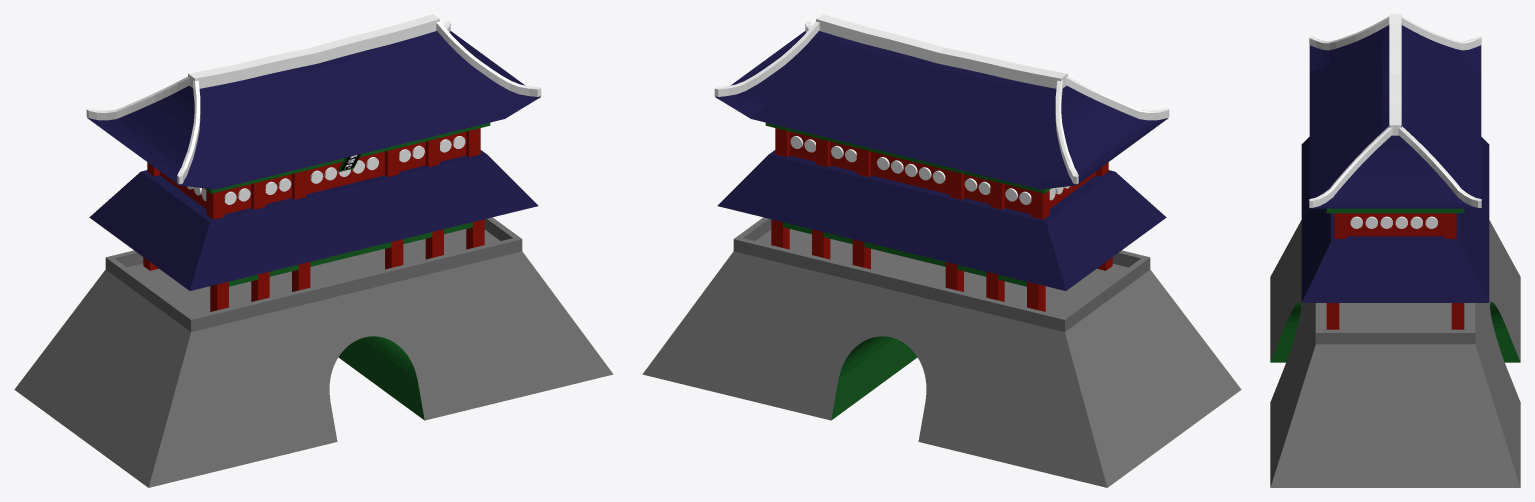
The model's file is Sungnyemun.glb.
The picture shows the model from 3 angles, left to right: view 1: azimuth 30°, elevation 25°; view 2: azimuth 150°, elevation 25°; view 3: azimuth 270°, elevation 25°; orthographic projection. The views are drawn at different scales.
Parts seen in each view (by area): view 1: Cube.001; view 2: Cube.001; view 3: Cube.001.
Boxes of the visible parts, x1=… form: Cube.001: x1=14, y1=14, x2=613, y2=487; Cube.001: x1=642, y1=14, x2=1241, y2=487; Cube.001: x1=1270, y1=14, x2=1520, y2=487.
Size of the model in its own units: 4 by 2.76 by 2.
